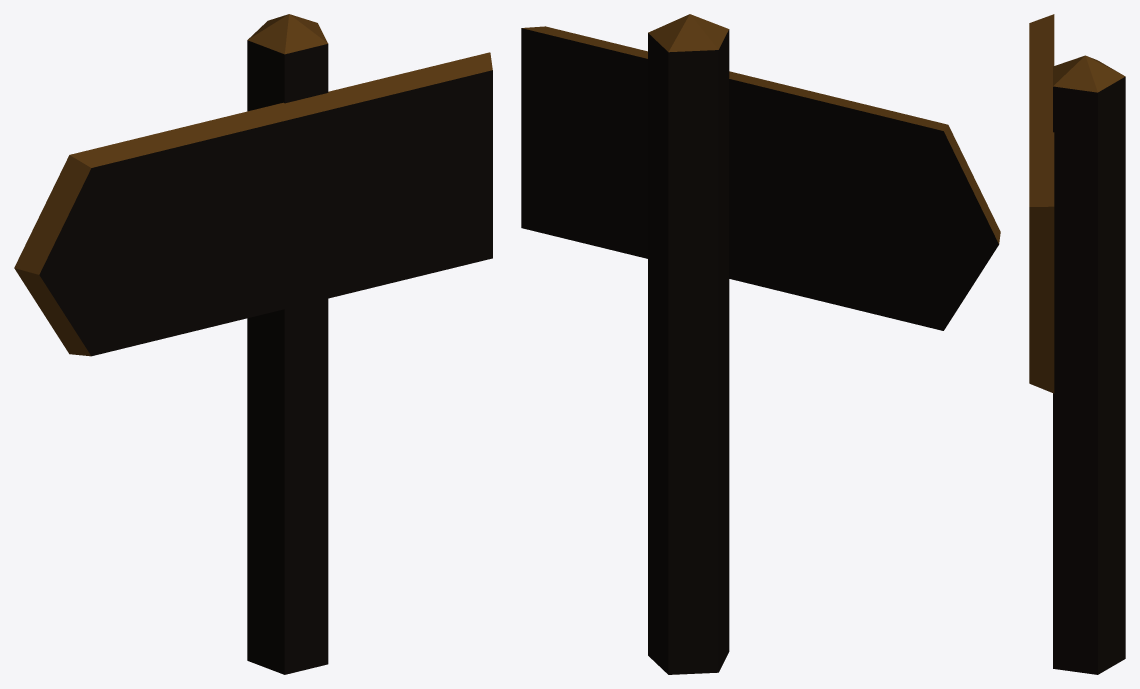
File: Signpost_2.fbx
3 views of the same model, side by side, from view 1: azimuth 30°, elevation 25°; view 2: azimuth 150°, elevation 25°; view 3: azimuth 270°, elevation 25° (orthographic). The views are drawn at different scales.
Visible parts, largest first — view 1: Signpost_2; view 2: Signpost_2; view 3: Signpost_2.
Part boxes in pixels (x1=…): Signpost_2: x1=14, y1=14, x2=492, y2=674; Signpost_2: x1=521, y1=14, x2=1000, y2=674; Signpost_2: x1=1029, y1=14, x2=1125, y2=674.
Size of the model in its own units: 168 by 216 by 31.29.
